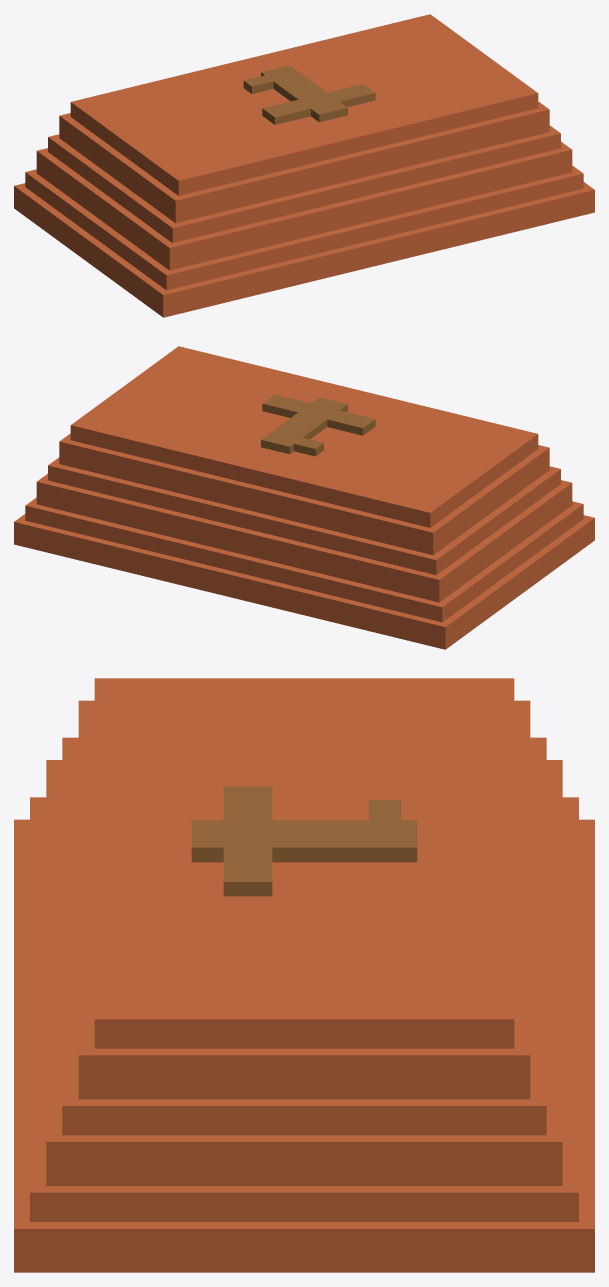
The model's file is orichalcum_ingot.glb.
3 renders of one model, top to bottom at view 1: azimuth 30°, elevation 25°; view 2: azimuth 150°, elevation 25°; view 3: azimuth 270°, elevation 25°, orthographic. The views are drawn at different scales.
Visible parts, largest first — view 1: orichalcum_ingot:compound; view 2: orichalcum_ingot:compound; view 3: orichalcum_ingot:compound.
Part boxes in pixels (x1,y1,x2,y2): orichalcum_ingot:compound: (14, 14, 594, 317); orichalcum_ingot:compound: (14, 346, 594, 649); orichalcum_ingot:compound: (14, 678, 594, 1272).
Size of the model in its own units: 0.12 by 0.032 by 0.072.
